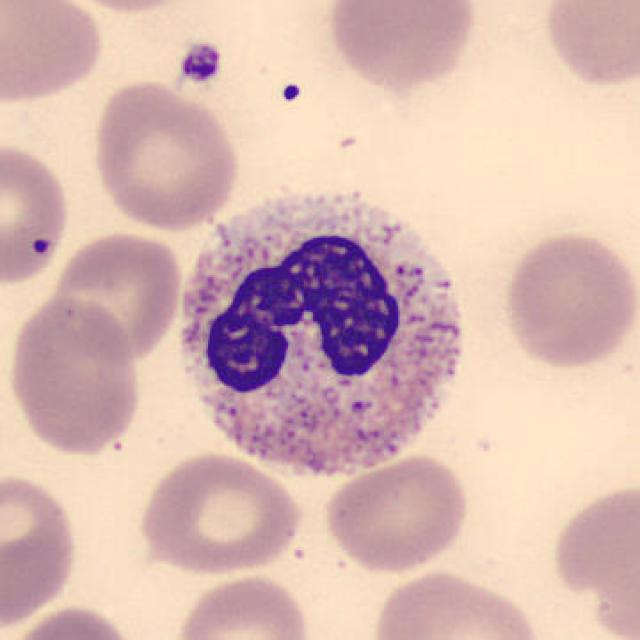Neutrophil: (166, 180, 477, 492)
Platelets: (174, 39, 226, 88), (276, 80, 306, 108)
RBC: (87, 78, 244, 232), (4, 293, 144, 458), (133, 450, 306, 578), (499, 227, 636, 372), (322, 453, 473, 575), (48, 229, 185, 363), (546, 476, 640, 638), (322, 0, 482, 92), (366, 566, 546, 640), (0, 468, 82, 630), (0, 0, 107, 106), (0, 138, 73, 289), (170, 571, 314, 640), (538, 0, 640, 91), (7, 601, 141, 640), (51, 0, 202, 16)
